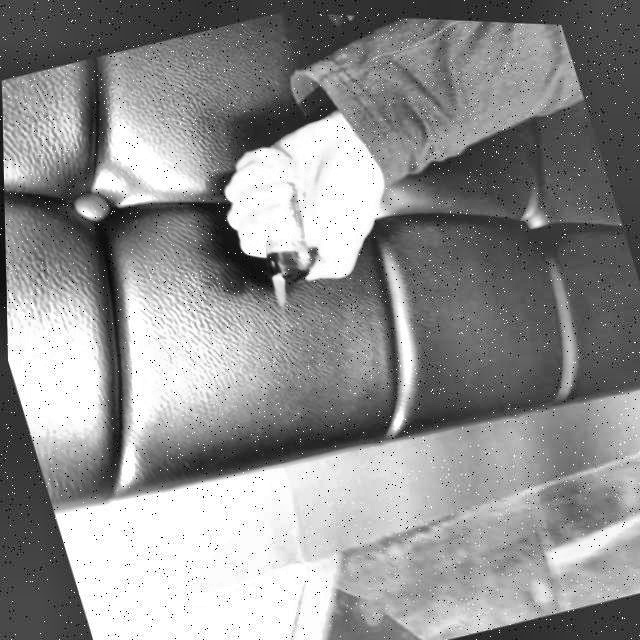Fire: (268, 272, 291, 302)
